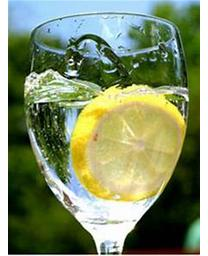lemon: (72, 87, 186, 203)
